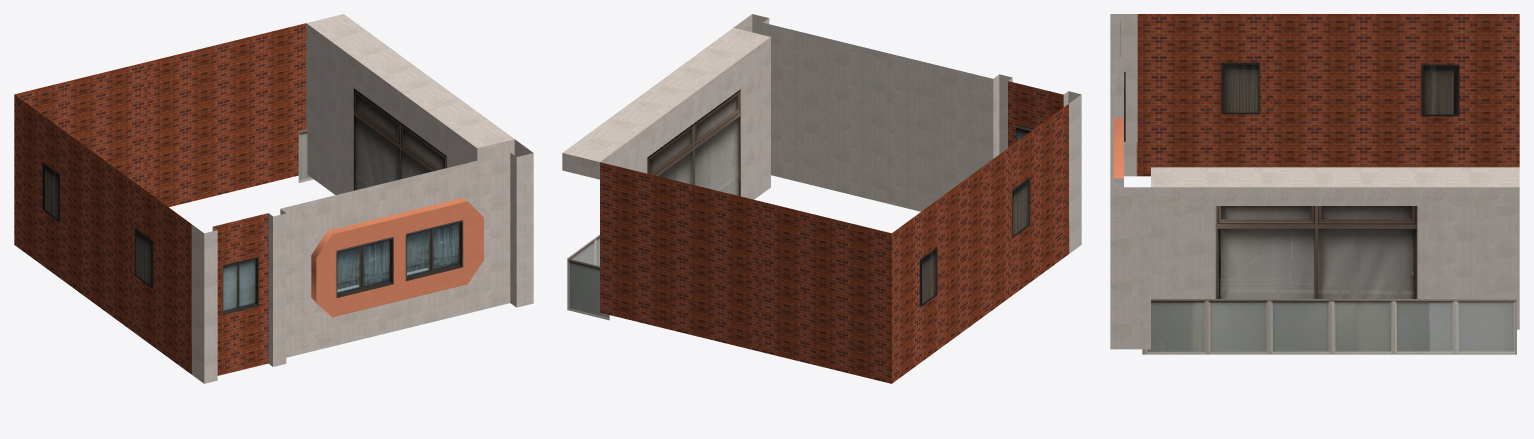
The model's file is building01_2f.fbx.
3 views of the same model, side by side, from view 1: azimuth 30°, elevation 25°; view 2: azimuth 150°, elevation 25°; view 3: azimuth 270°, elevation 25° (orthographic). The views are drawn at different scales.
Parts seen in each view (by area): view 1: polySurface9, polySurface10, polySurface7, pPlane1; view 2: polySurface9, polySurface7, pPlane1; view 3: polySurface9, pPlane1, polySurface7, polySurface10.
Part boxes in pixels (x1,y1,x2,y2): polySurface9: (14, 23, 533, 383); polySurface10: (311, 198, 483, 317); polySurface7: (306, 14, 514, 148); pPlane1: (298, 129, 313, 182); polySurface9: (600, 14, 1081, 383); polySurface7: (562, 28, 770, 179); pPlane1: (567, 235, 609, 320); polySurface9: (1110, 14, 1519, 349); pPlane1: (1142, 299, 1516, 354); polySurface7: (1151, 167, 1519, 205); polySurface10: (1113, 118, 1123, 178).
Bounding box in the file's own units: 801 × 700 × 800.
Materials: 3 (2 with a texture image).
